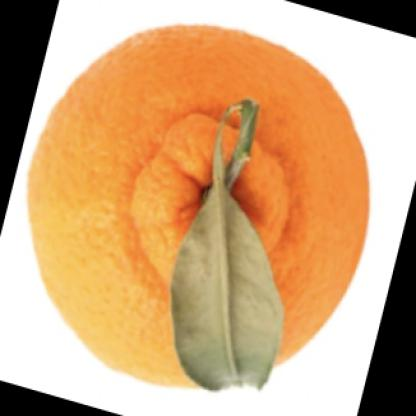orange: (23, 19, 371, 392)
